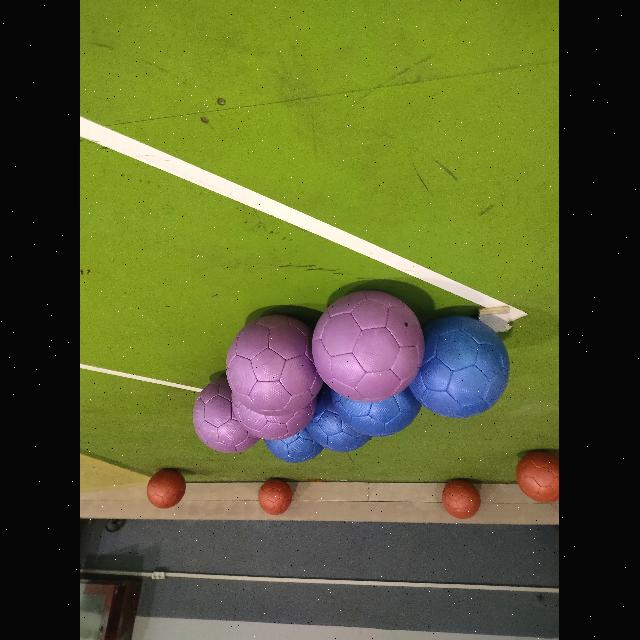B: (411, 316, 511, 418), (336, 355, 424, 435), (308, 386, 372, 452), (261, 409, 329, 466)
P: (313, 292, 425, 402), (229, 316, 321, 416), (232, 368, 310, 444), (194, 377, 260, 453)
R: (518, 452, 560, 502), (148, 469, 186, 508), (443, 479, 481, 518), (259, 479, 293, 515)
